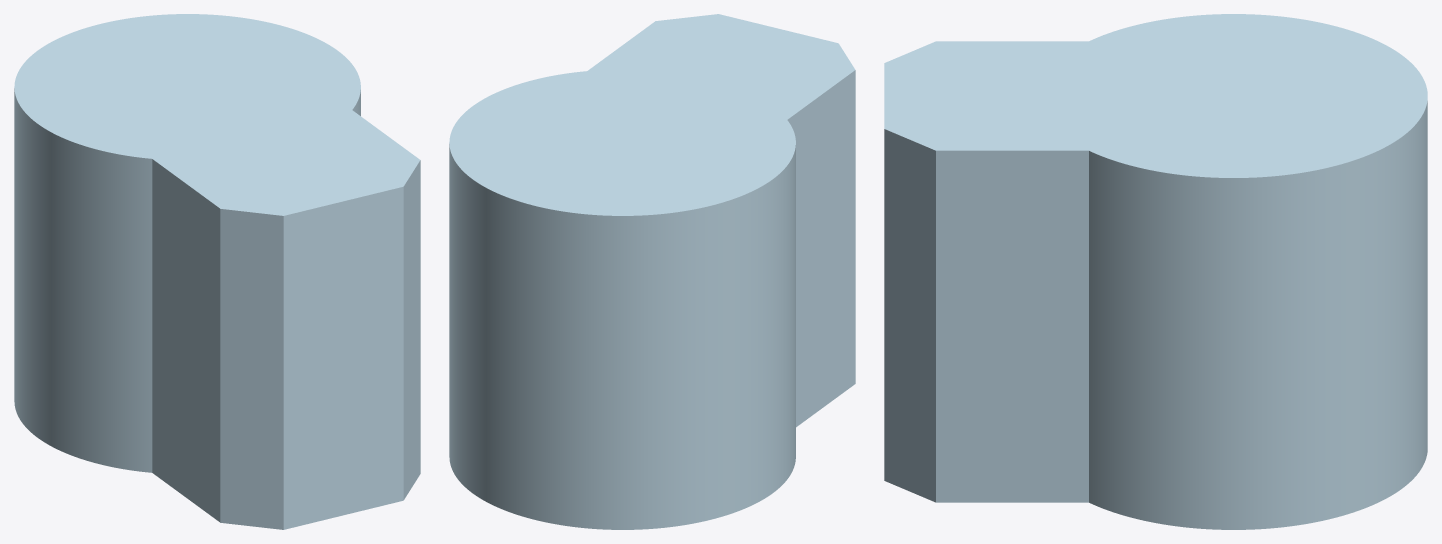
The model's file is Assembly 1 - Engine Block.gltf.
3 renders of one model, left to right at view 1: azimuth 30°, elevation 25°; view 2: azimuth 150°, elevation 25°; view 3: azimuth 270°, elevation 25°, orthographic. The views are drawn at different scales.
Parts seen in each view (by area): view 1: Engine Block; view 2: Engine Block; view 3: Engine Block.
Part boxes in pixels (x1,y1,x2,y2): Engine Block: (14, 14, 420, 529); Engine Block: (449, 14, 855, 529); Engine Block: (884, 14, 1427, 529).
Bounding box in the file's own units: 0.7499 × 0.75 × 1.05.
